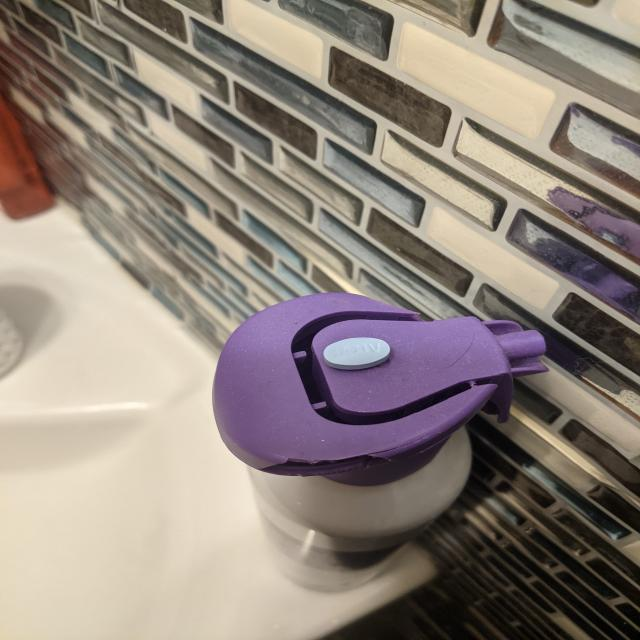non-organic waste: (321, 336, 392, 371)
